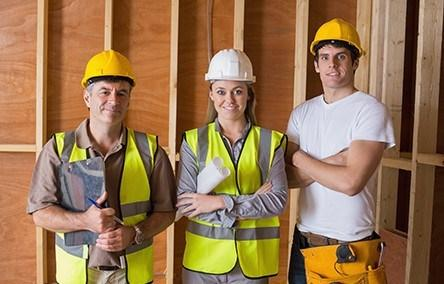helmet: (310, 19, 366, 58), (81, 51, 137, 88), (207, 49, 257, 85)
